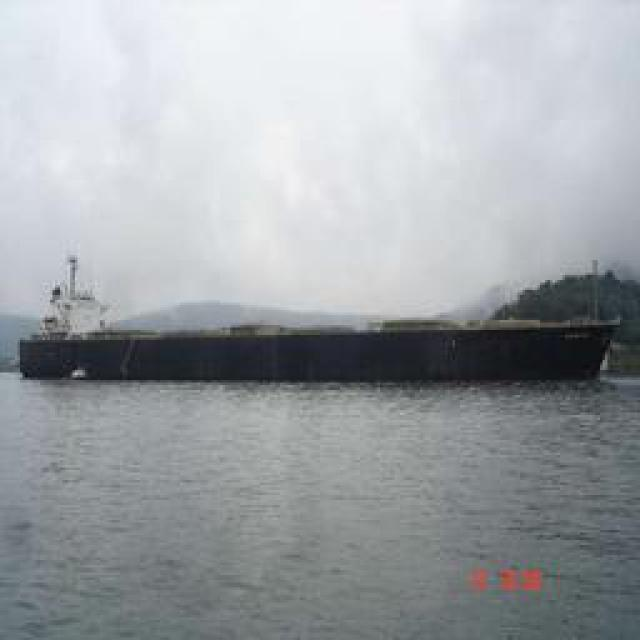Ship: (28, 314, 616, 379)
